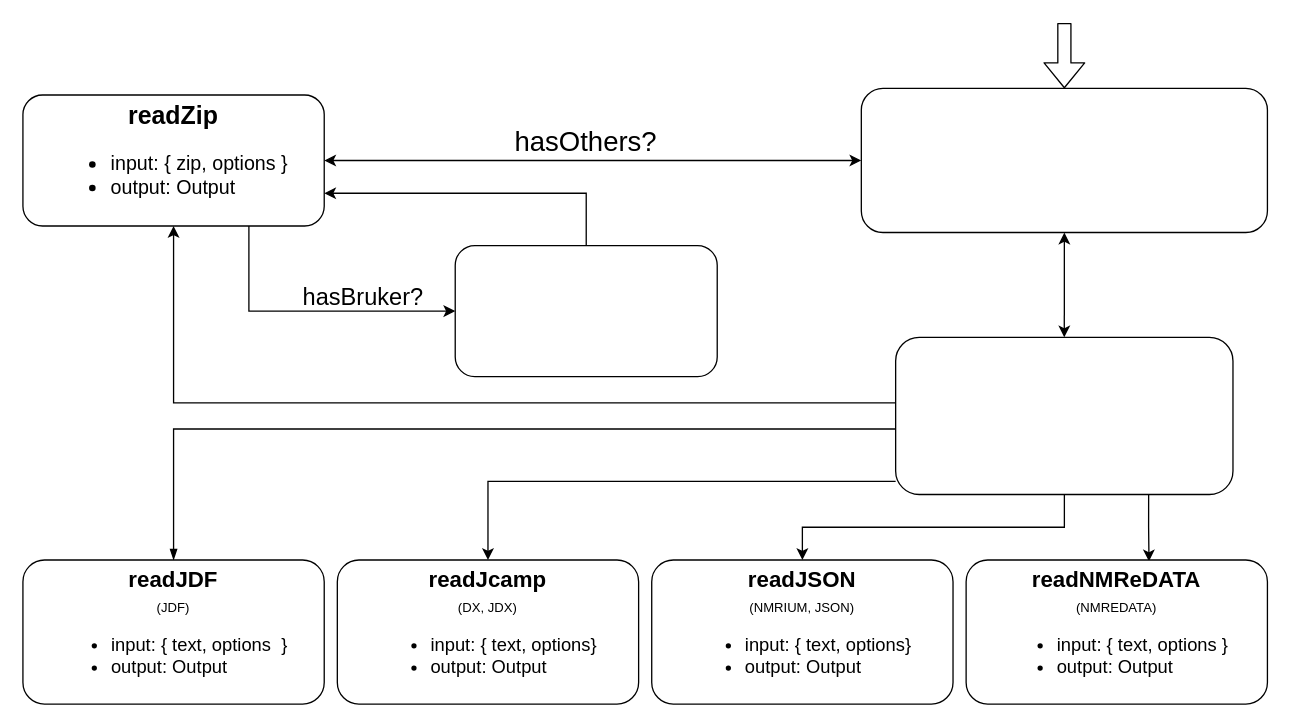
Image size: 1290x727. Some labels were removed from this diagram. The centre of each missing label's shape, as x and y in pixels:
read input: { files: LoadedFiles[], options: Options output: Output: pixel 1063 160
readBrukerZip input: { zip, options } output: Output: pixel 585 310
Select processor by extension: pixel 1063 415
